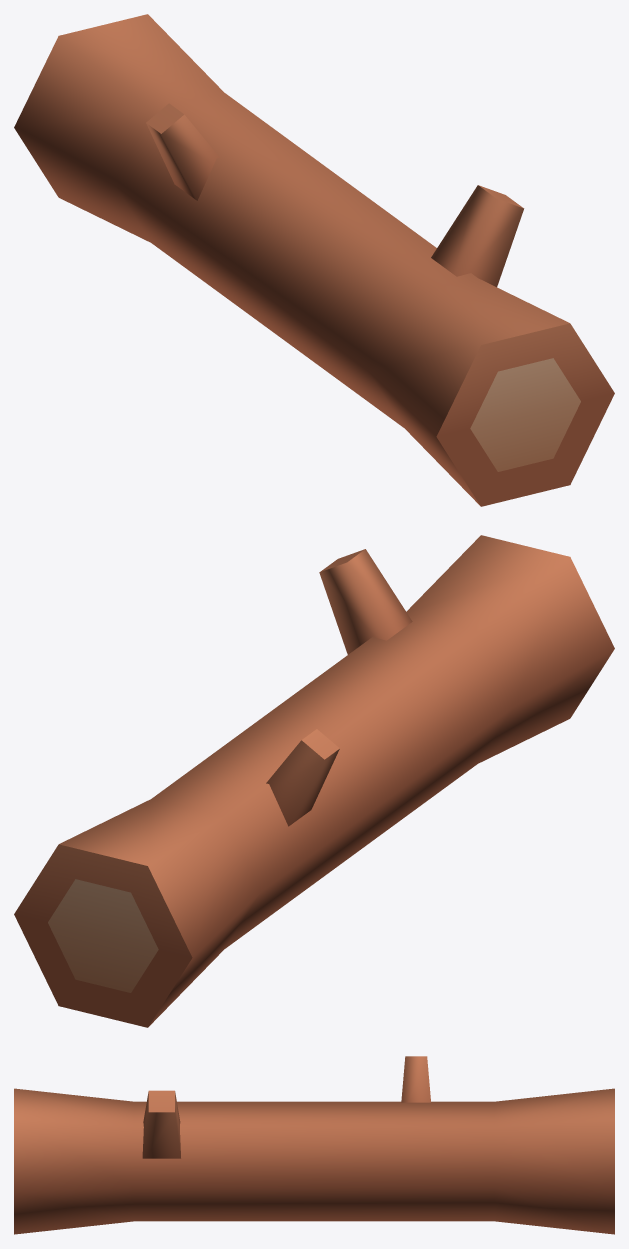
Rendered from tree-log.glb.
The picture shows the model from 3 angles, top to bottom: view 1: azimuth 30°, elevation 25°; view 2: azimuth 150°, elevation 25°; view 3: azimuth 270°, elevation 25°; orthographic projection. The views are drawn at different scales.
Visible parts, largest first — view 1: tree-log; view 2: tree-log; view 3: tree-log.
Boxes of the visible parts, x1,y1,x2,y2 form: tree-log: (14, 14, 614, 506); tree-log: (14, 535, 614, 1027); tree-log: (14, 1056, 614, 1234).
Bounding box in the file's own units: 0.2495 × 0.2771 × 1.
